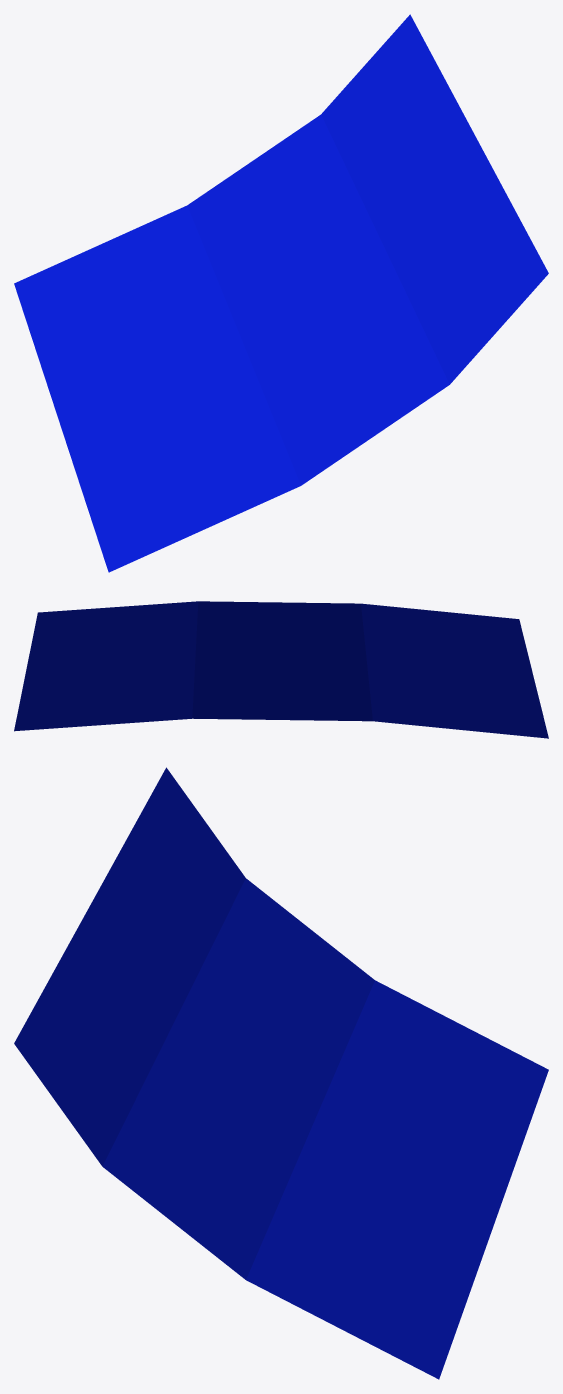
Rendered from L9_Sphere_Cache.fbx.
3 renders of one model, top to bottom at view 1: azimuth 30°, elevation 25°; view 2: azimuth 150°, elevation 25°; view 3: azimuth 270°, elevation 25°, orthographic. The views are drawn at different scales.
Parts seen in each view (by area): view 1: L9_Sphere_Cache; view 2: L9_Sphere_Cache; view 3: L9_Sphere_Cache.
Part boxes in pixels (<box>): L9_Sphere_Cache: <box>14,14,548,572</box>; L9_Sphere_Cache: <box>14,601,548,738</box>; L9_Sphere_Cache: <box>14,767,548,1379</box>.
Bounding box in the file's own units: 737 × 259 × 477.
